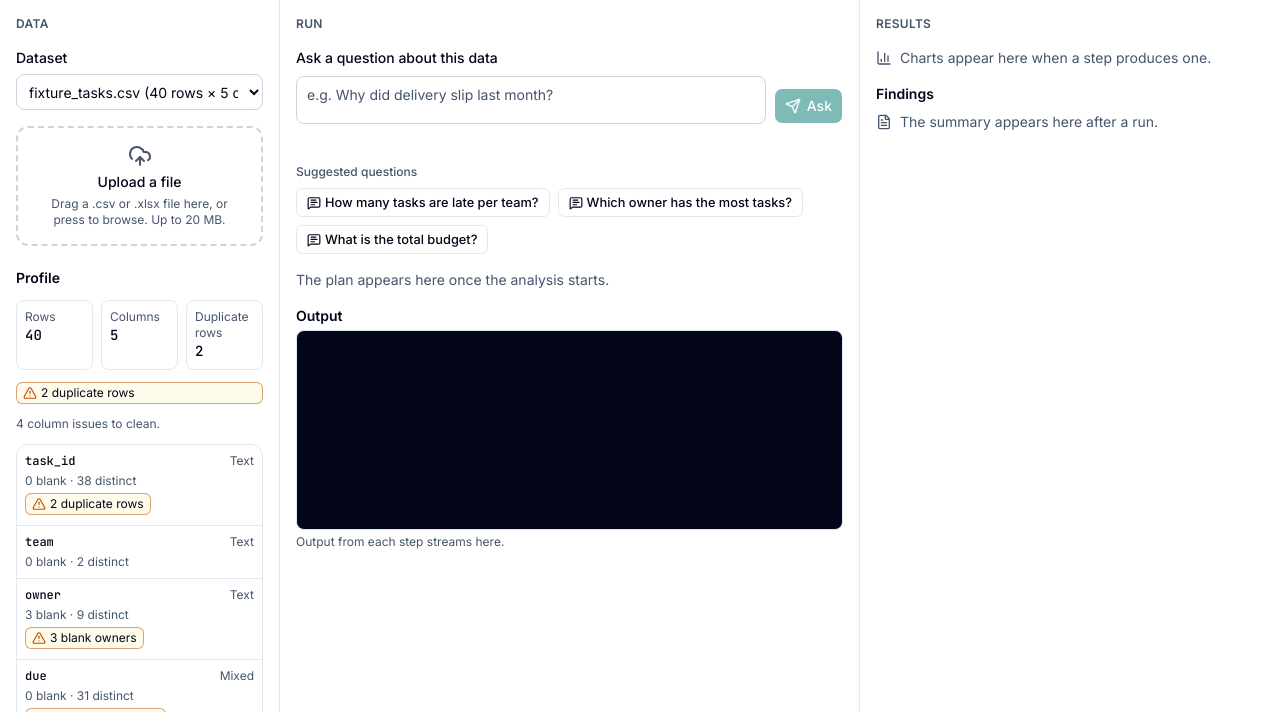
Workspace › runs a suggested question and shows its steps in the Run panel
The image size is (1280, 712).
Click the button "How many tasks are late per team?": (423, 203) left=296, top=188, right=550, bottom=217
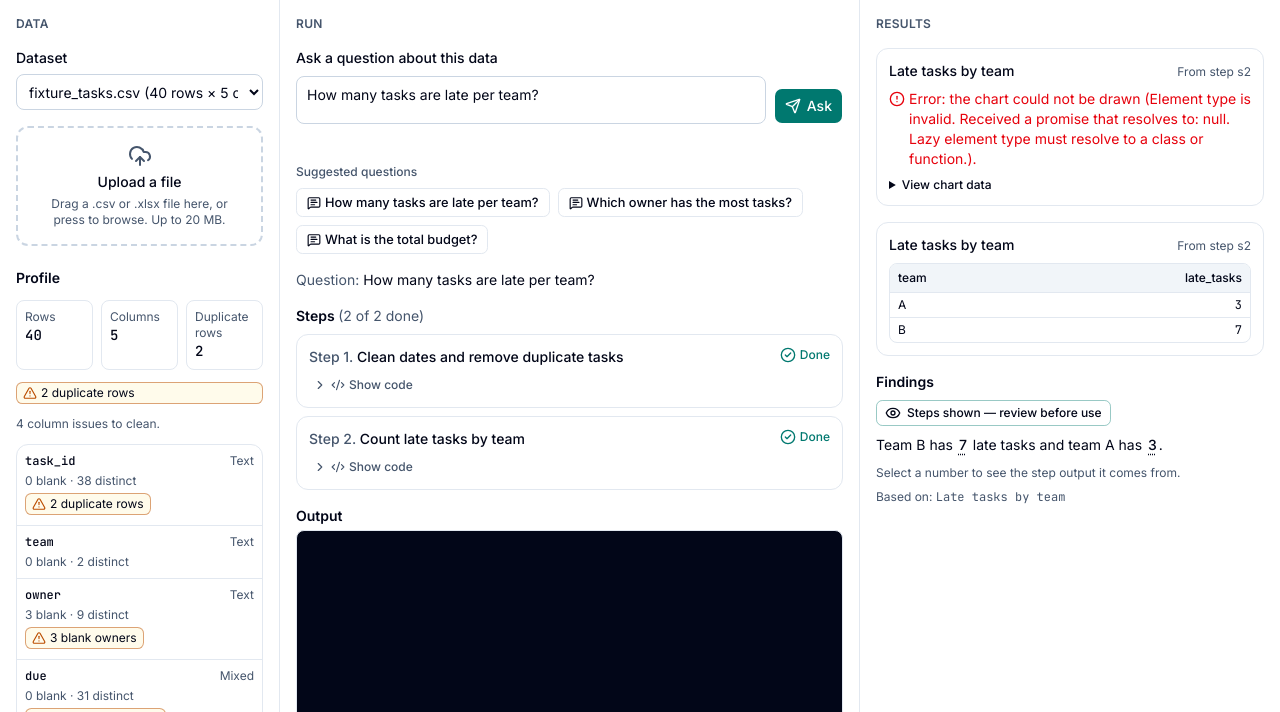
expect the text "(2 of 2 done)" is shown: met, box left=338, top=307, right=424, bottom=324
expect the heading "Step 1. Clean dates and remove duplicate tasks" is shown: met, box left=309, top=347, right=624, bottom=367
